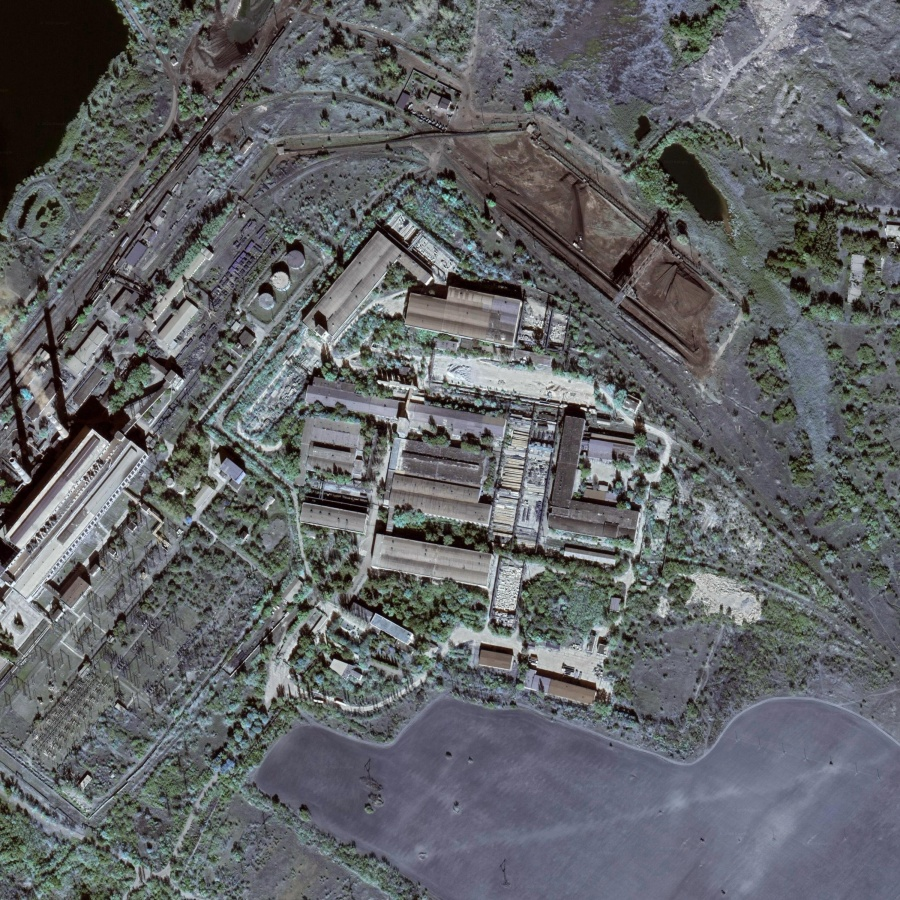PowerPlant: (429, 113, 719, 366)
